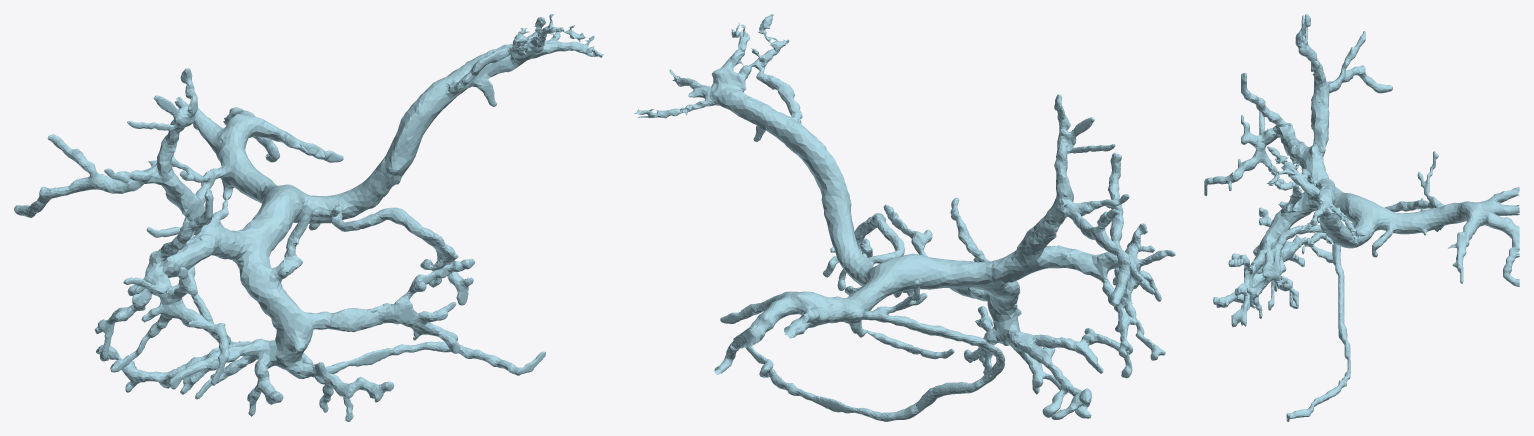
The model's file is portalvein.obj.
The picture shows the model from 3 angles, left to right: view 1: azimuth 30°, elevation 25°; view 2: azimuth 150°, elevation 25°; view 3: azimuth 270°, elevation 25°; orthographic projection. The views are drawn at different scales.
Parts seen in each view (by area): view 1: grp1; view 2: grp1; view 3: grp1.
Part boxes in pixels (x1=…): grp1: x1=14, y1=14, x2=603, y2=421; grp1: x1=633, y1=14, x2=1175, y2=421; grp1: x1=1204, y1=14, x2=1519, y2=421.
Size of the model in its own units: 248 by 166 by 166.
